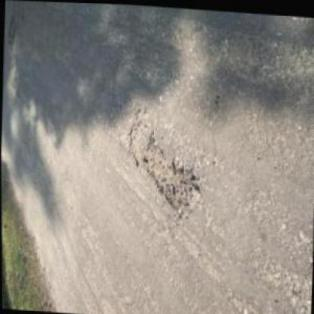Hueco: (124, 117, 203, 221)
